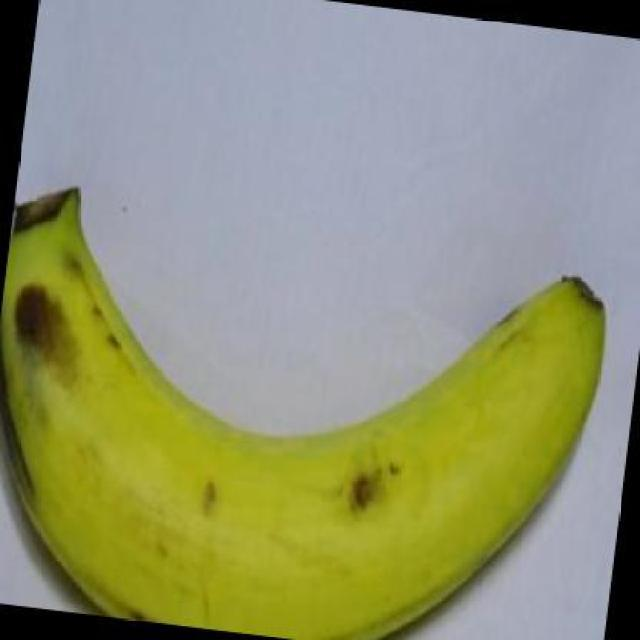ripe: (0, 161, 634, 640)
